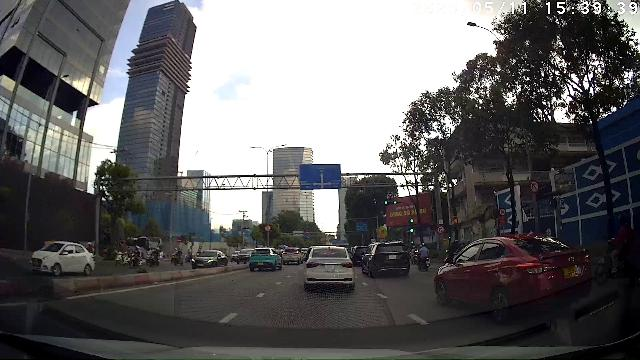103b-cam-oto-re-phai: (529, 180, 539, 193)
